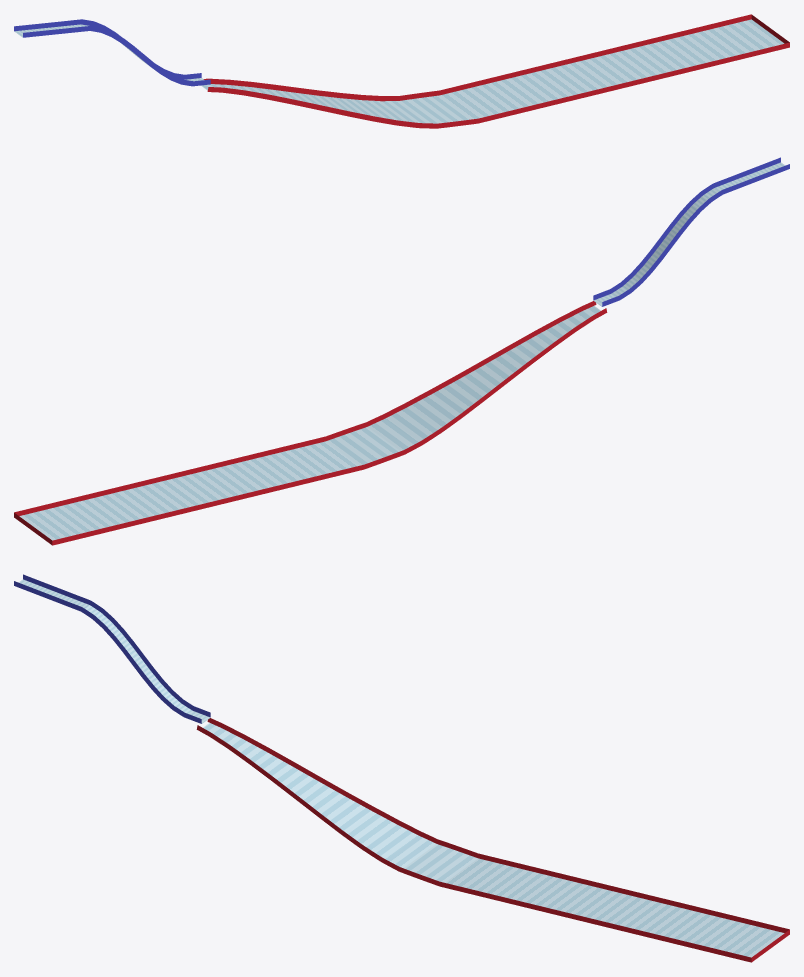
File: SkiJumpTrack.glb
3 renders of one model, top to bottom at view 1: azimuth 30°, elevation 25°; view 2: azimuth 210°, elevation 25°; view 3: azimuth 330°, elevation 25°, orthographic.
Parts seen in each view (by area): view 1: SkiJumpLand.003, SkiJumpLand.004, SkiJumpRamp.004, SkiJumpRamp.003, SkiJumpRamp.002; view 2: SkiJumpLand.003, SkiJumpLand.004, SkiJumpRamp.002, SkiJumpRamp.004, SkiJumpRamp.003; view 3: SkiJumpLand.003, SkiJumpLand.004, SkiJumpRamp.002, SkiJumpRamp.003, SkiJumpRamp.004.
Part boxes in pixels (bbox=[...]): SkiJumpLand.003: bbox=[201, 19, 784, 123]; SkiJumpLand.004: bbox=[203, 14, 789, 128]; SkiJumpRamp.004: bbox=[23, 26, 210, 86]; SkiJumpRamp.003: bbox=[14, 19, 201, 79]; SkiJumpRamp.002: bbox=[14, 24, 204, 81]; SkiJumpLand.003: bbox=[19, 306, 600, 540]; SkiJumpLand.004: bbox=[14, 301, 607, 545]; SkiJumpRamp.002: bbox=[593, 162, 784, 306]; SkiJumpRamp.004: bbox=[593, 157, 780, 300]; SkiJumpRamp.003: bbox=[602, 164, 789, 306]; SkiJumpLand.003: bbox=[203, 723, 784, 957]; SkiJumpLand.004: bbox=[196, 718, 789, 962]; SkiJumpRamp.002: bbox=[19, 579, 210, 723]; SkiJumpRamp.003: bbox=[23, 574, 210, 717]; SkiJumpRamp.004: bbox=[14, 581, 201, 723].
Bounding box in the file's own units: 15.05 × 3.58 × 1.33.
Materials: 3 (1 with a texture image).
